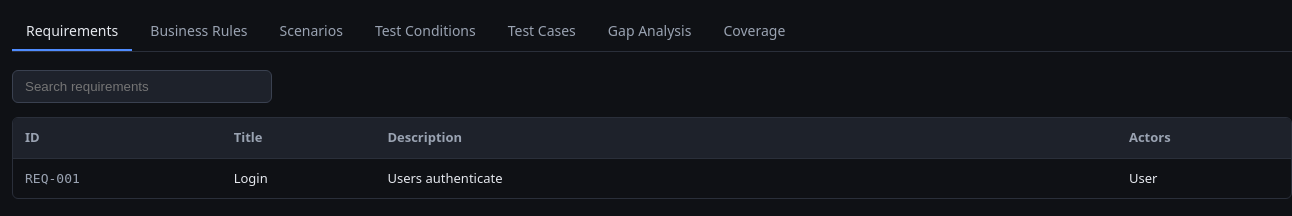
it: Results › renders gaps with a severity, blocker-first
Click the tab "Gap Analysis" at point(650, 32), box [594,12,705,51]
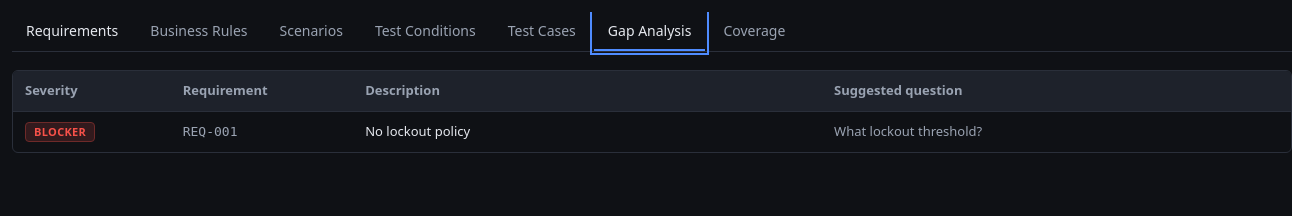
Result: the text "blocker" is shown at [25,122,95,142]
Result: the text "No lockout policy" is shown at [353,111,822,152]
